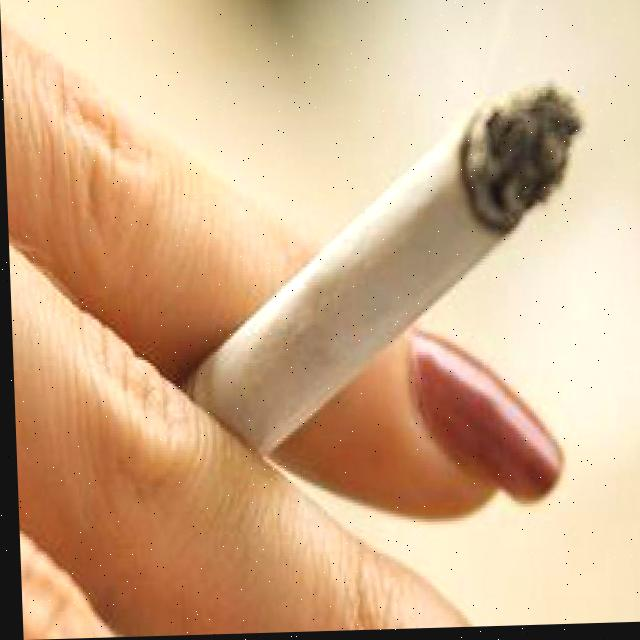cigarette: (188, 88, 588, 463)
